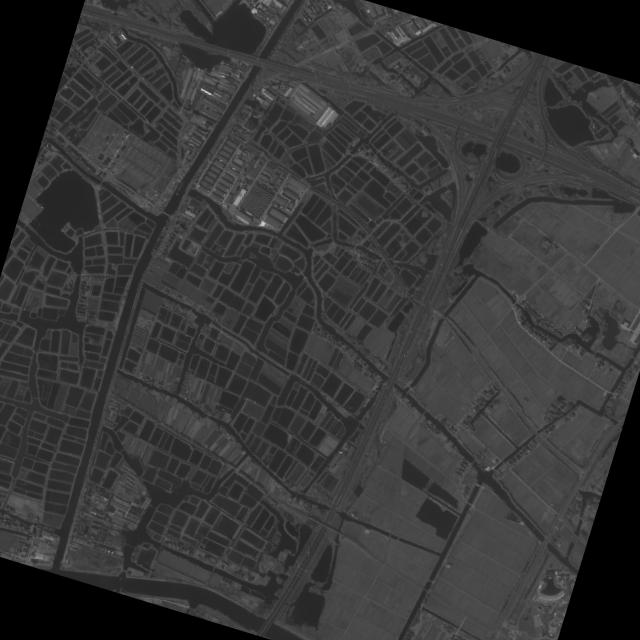ship: (178, 179, 184, 188), (175, 179, 181, 187), (174, 186, 179, 194)
